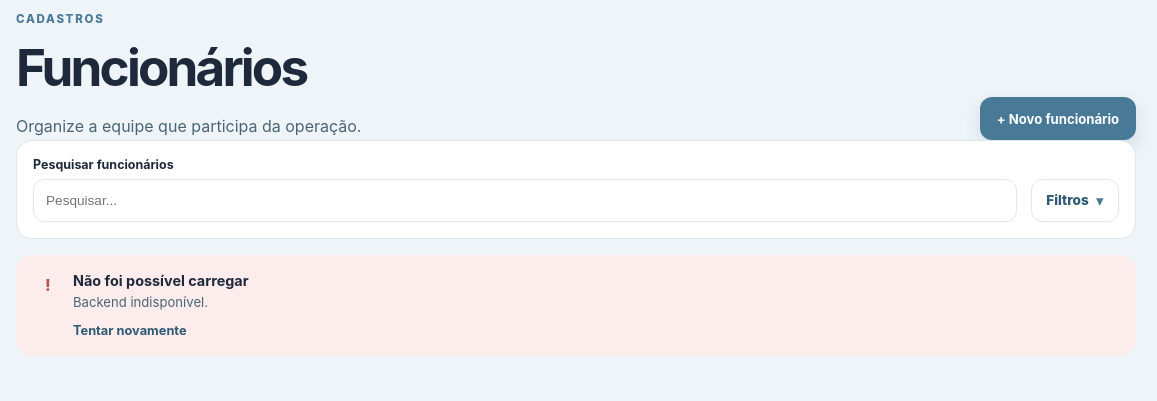
EmployeesPage filter infrastructure pilot › keeps loading and retryable error states available
Check: the message shows "Backend indisponível.", box left=73, top=294, right=208, bottom=310
Click the button "Tentar novamente" at (130, 331), box left=73, top=323, right=187, bottom=338
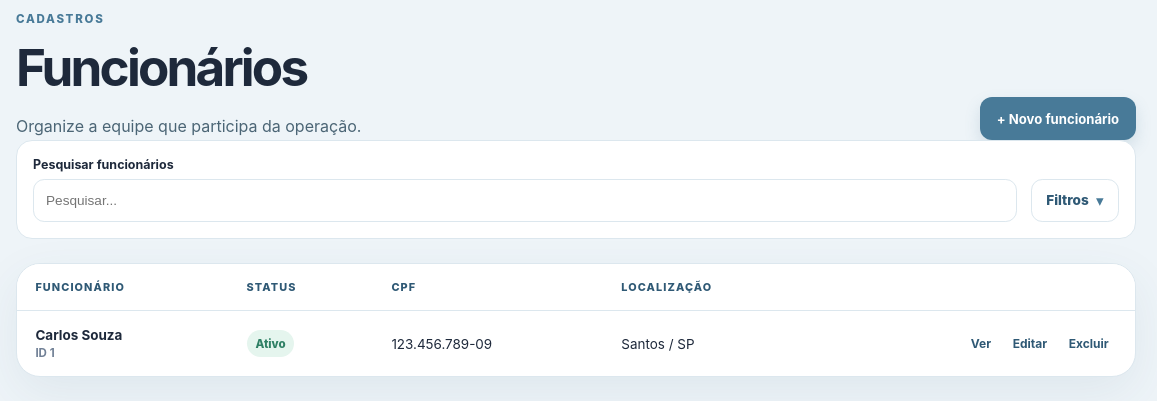
Check: the text "Carlos Souza" is shown, box left=35, top=327, right=122, bottom=343
